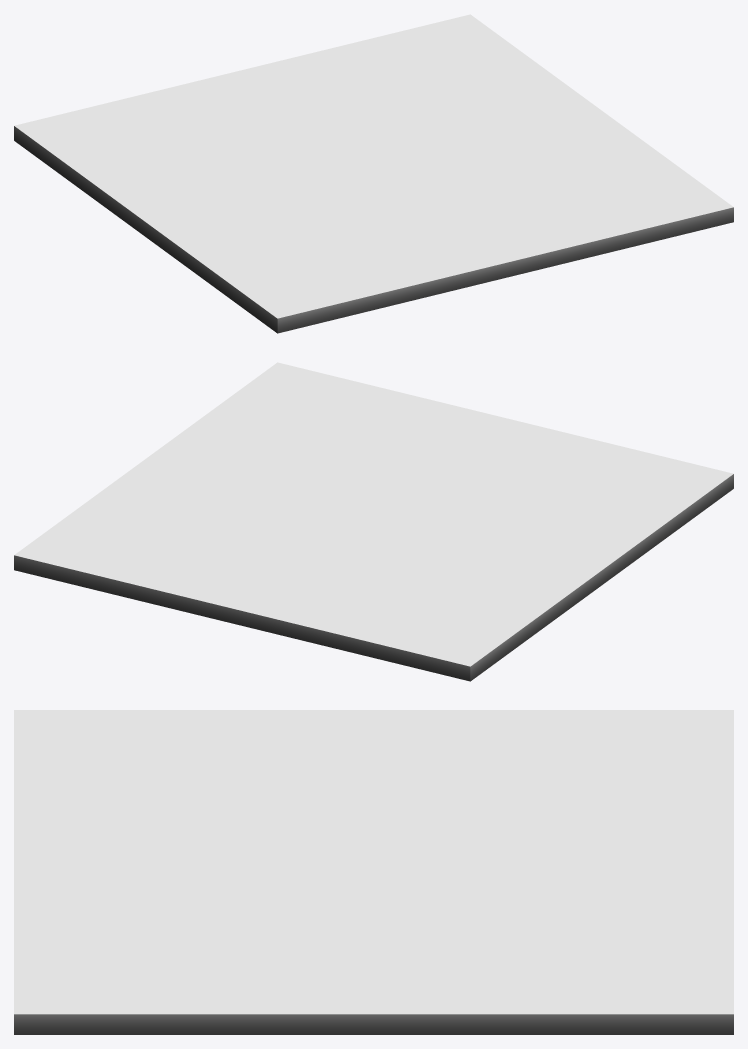
Rendered from corridor_base.fbx.
3 views of the same model, one above another, from view 1: azimuth 30°, elevation 25°; view 2: azimuth 150°, elevation 25°; view 3: azimuth 270°, elevation 25° (orthographic). The views are drawn at different scales.
Visible parts, largest first — view 1: corridor.base; view 2: corridor.base; view 3: corridor.base.
Boxes of the visible parts, x1,y1,x2,y2 form: corridor.base: (14,14,733,333); corridor.base: (14,362,733,681); corridor.base: (14,710,733,1034).
Bounding box in the file's own units: 320 × 10 × 320.
